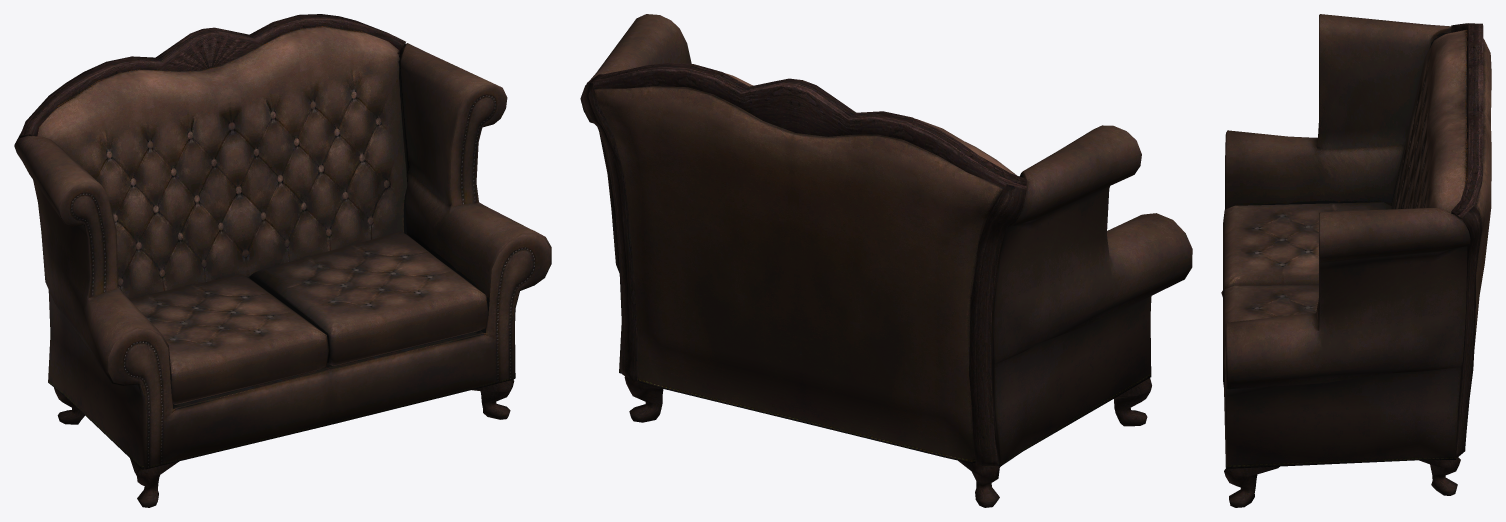
Rendered from armchair.obj.
The picture shows the model from 3 angles, left to right: view 1: azimuth 30°, elevation 25°; view 2: azimuth 150°, elevation 25°; view 3: azimuth 270°, elevation 25°; orthographic projection. The views are drawn at different scales.
Bounding box in the file's own units: 3.23 × 2.36 × 1.67.
1 material, 1 textured.
